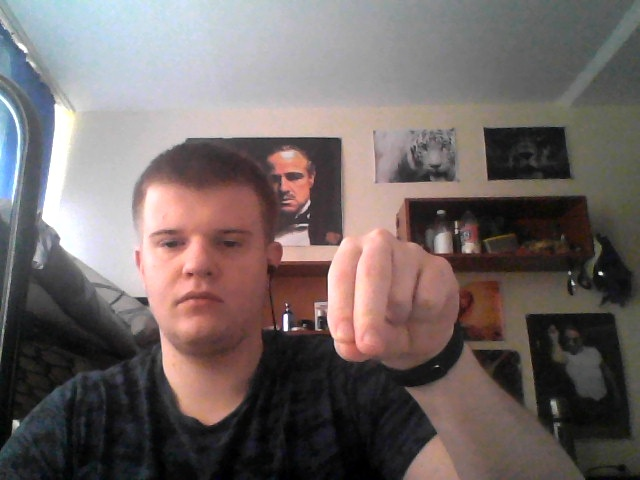no: (313, 227, 462, 364)
